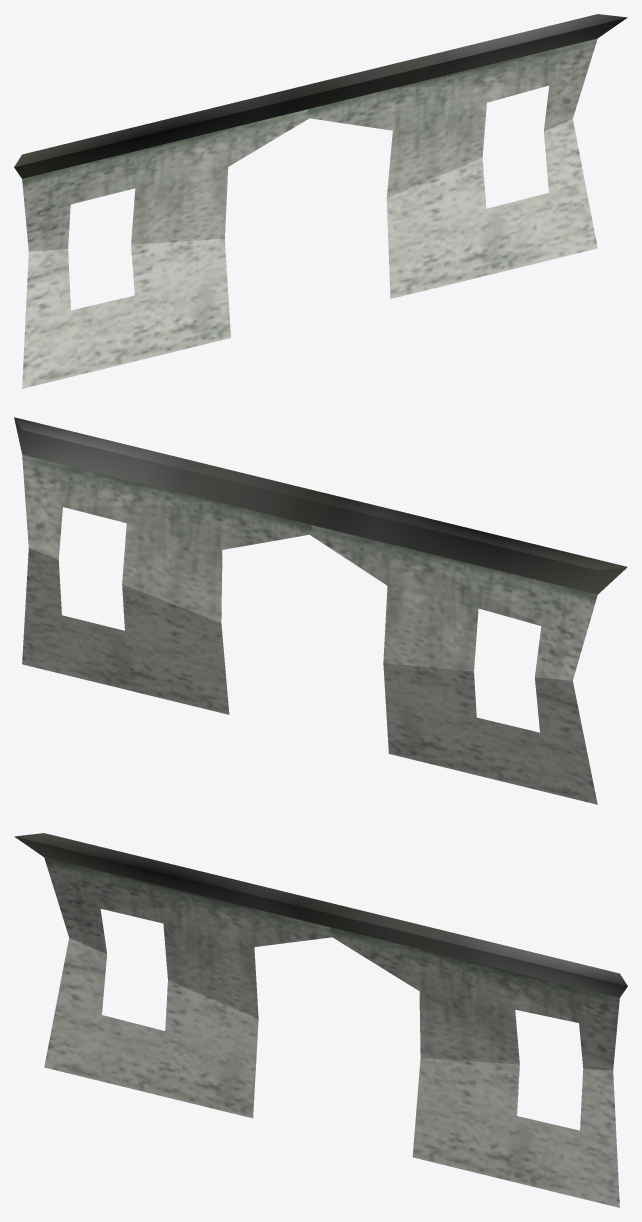
The model's file is W_A1_fof [Verputzt]_668.glb.
3 views of the same model, one above another, from view 1: azimuth 30°, elevation 25°; view 2: azimuth 150°, elevation 25°; view 3: azimuth 330°, elevation 25° (orthographic).
Parts seen in each view (by area): view 1: polySurfaceShape907, polySurfaceShape1057; view 2: polySurfaceShape907, polySurfaceShape1057; view 3: polySurfaceShape907, polySurfaceShape1057.
Part boxes in pixels (x1,y1,x2,y2): polySurfaceShape907: [22, 38, 597, 388]; polySurfaceShape1057: [14, 14, 627, 178]; polySurfaceShape907: [22, 454, 597, 804]; polySurfaceShape1057: [14, 417, 627, 594]; polySurfaceShape907: [44, 857, 619, 1207]; polySurfaceShape1057: [14, 833, 627, 997].
Size of the model in its own units: 1.07 by 0.3891 by 0.0607.
2 materials, 2 textured.
